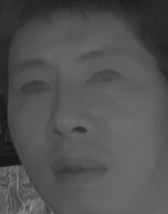eye: (80, 67, 125, 90), (15, 76, 53, 98)
mouth: (48, 150, 107, 187)
